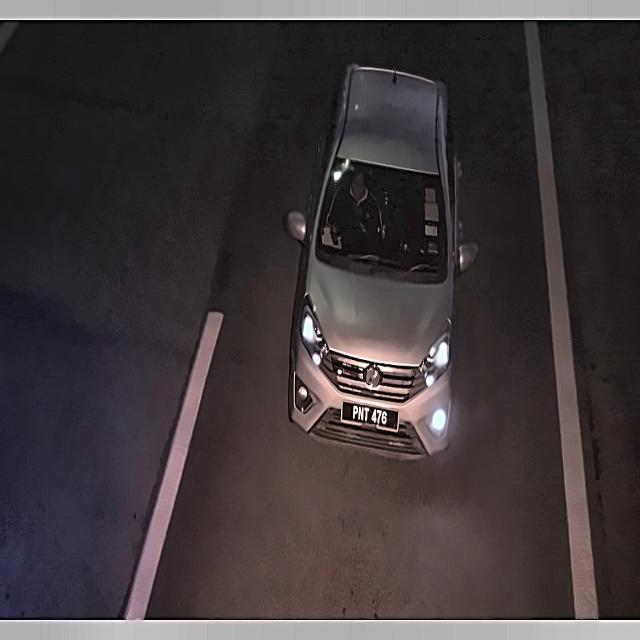car: (338, 393, 403, 434)
